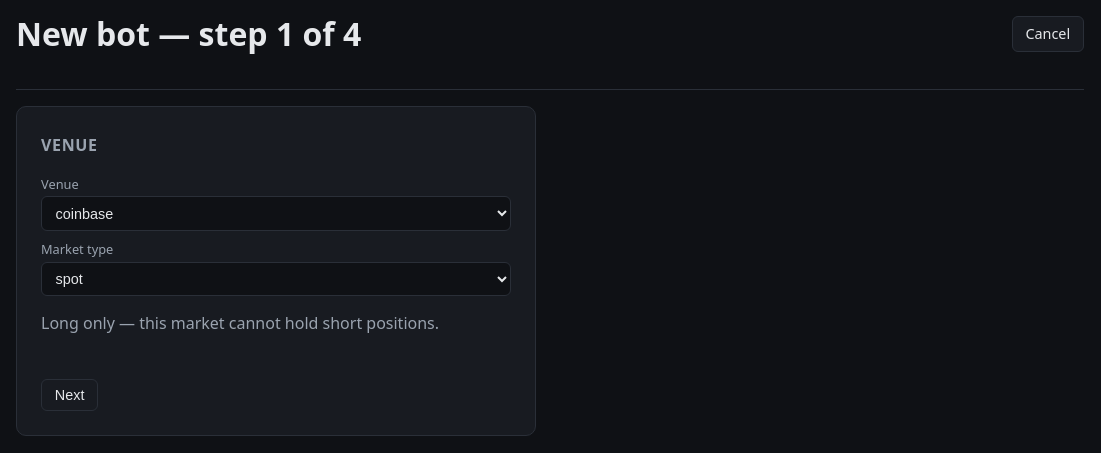
venue capabilities (#125) › reports short support on a derivative market
Expected: the text "Long only — this market cannot hold short positions." is shown, x1=41 y1=312 x2=439 y2=334
Select "futures" in the dropdown labelled "Market type" at (276,279), box x1=41 y1=262 x2=511 y2=296
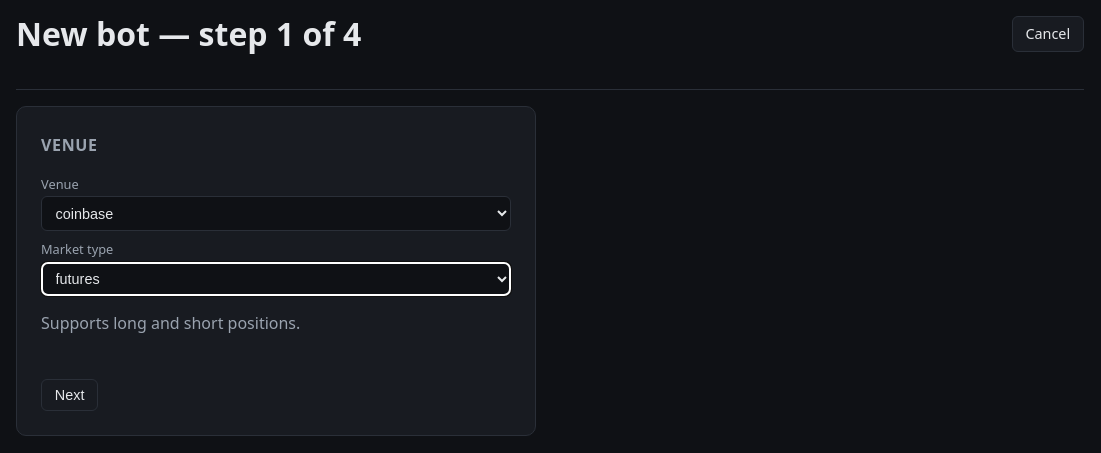
Now the text with test id "venue-capabilities" shows "long and short", box x1=41 y1=312 x2=300 y2=334
